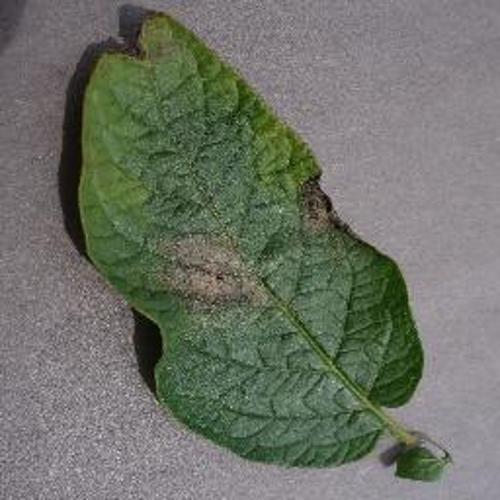Potato: (81, 13, 453, 482)
